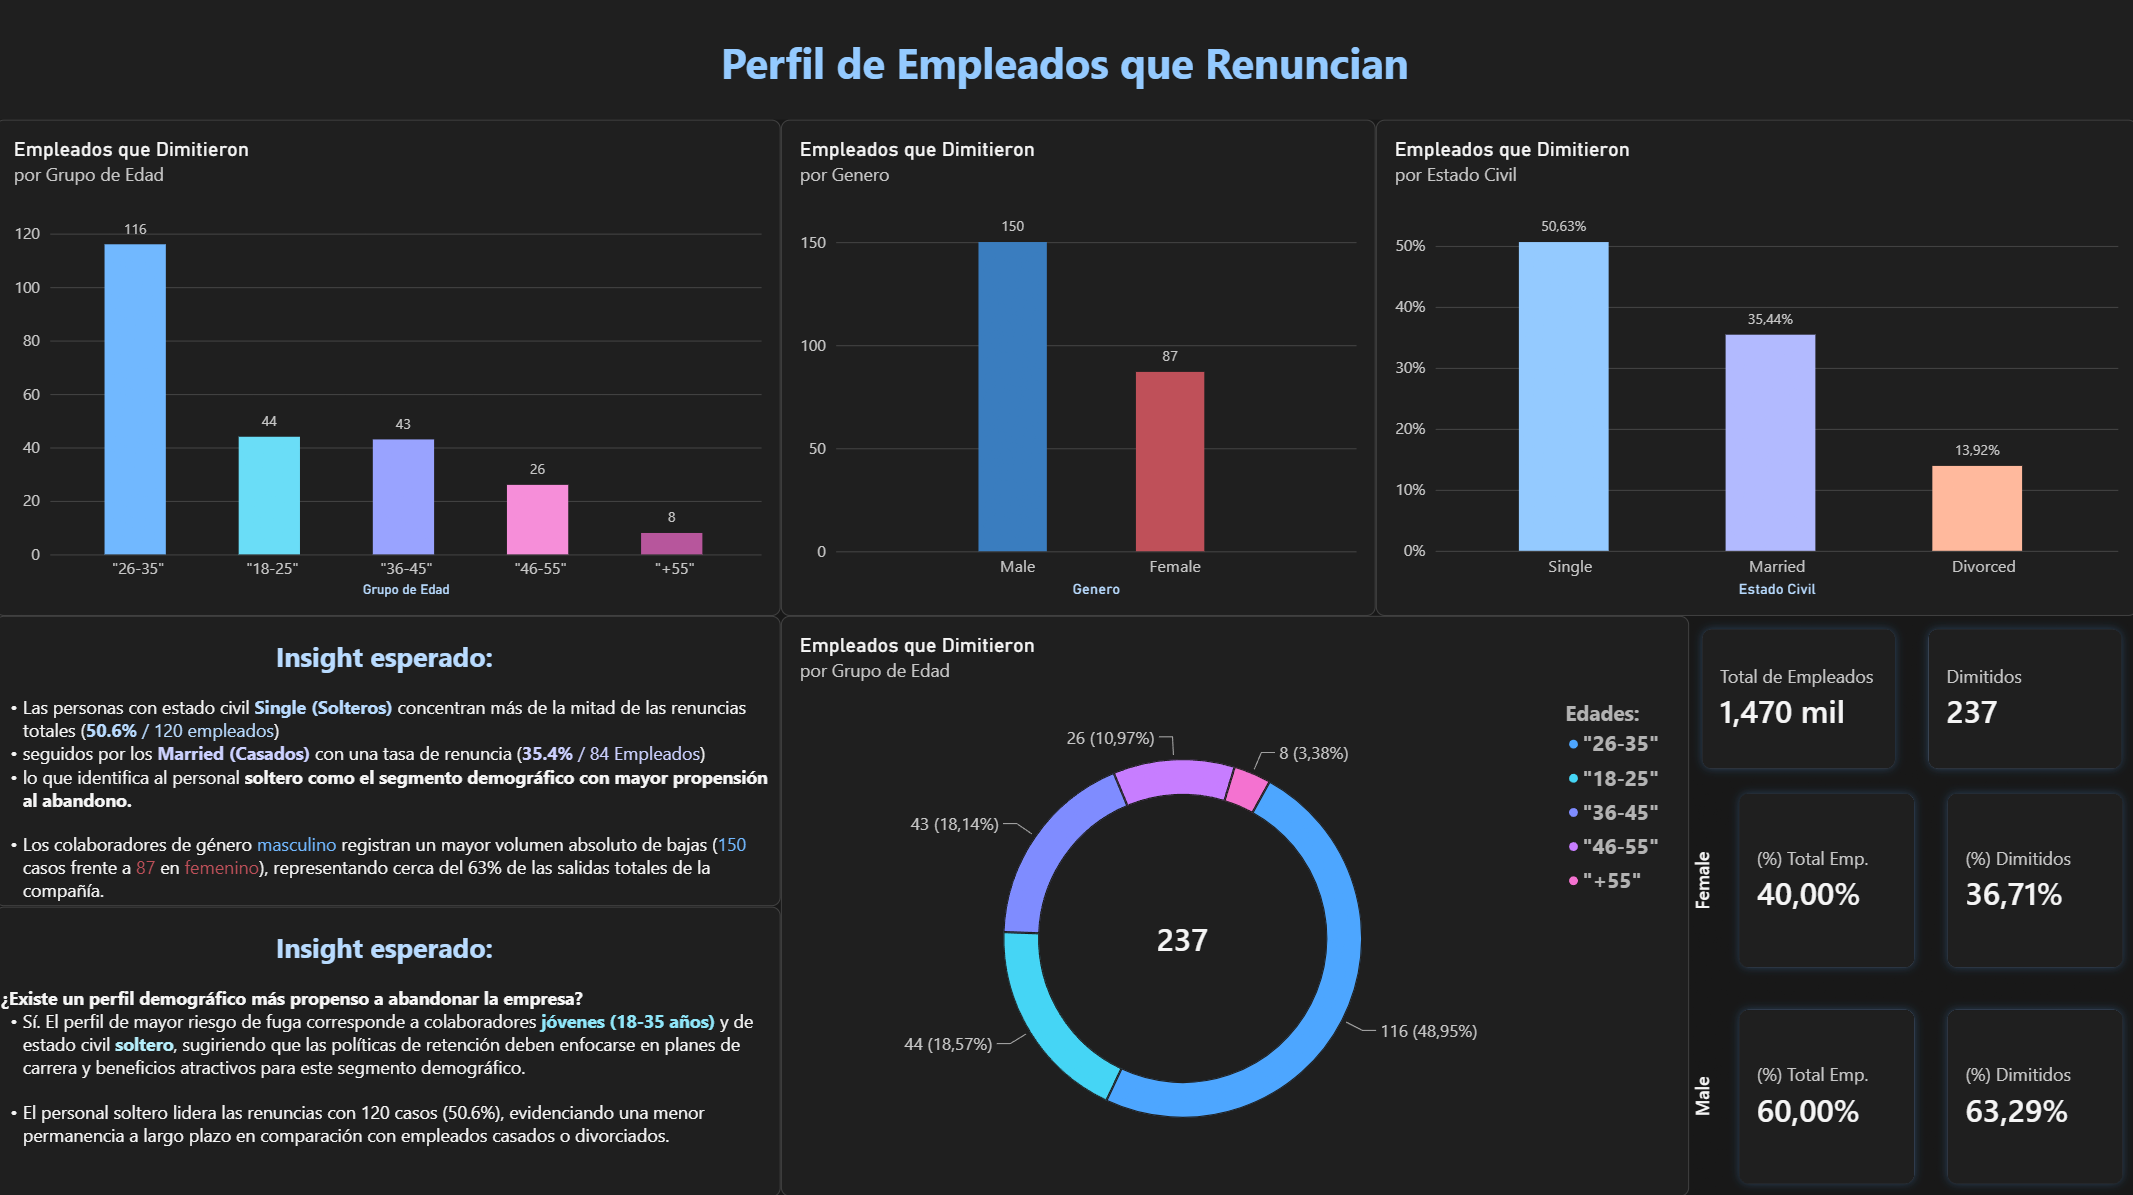

The page's visual inventory and layout, read from the dashboard file:
{"tool":"powerbi","page":{"name":"Perfil del Empleado","canvas":[1920,1080],"ordinal":2},"visuals":[{"type":"textbox","box":[0,0,1918.6,114.8],"z":0},{"type":"clusteredColumnChart","fields":{"Category":["Employees.AgeGroup"],"Y":["Employees.Employees Left"]},"box":[0,114.7,704.5,445],"z":1000},{"type":"textbox","box":[0,559.5,704.8,260.2],"z":2000},{"type":"clusteredColumnChart","fields":{"Category":["Employees.Gender"],"Y":["Employees.Employees Left"]},"box":[704.5,114.7,532.9,445],"z":3000},{"type":"textbox","box":[0,819.7,704.8,260.2],"z":4000},{"type":"clusteredColumnChart","fields":{"Category":["Employees.MaritalStatus"],"Y":["Employees.Employees Left"]},"box":[1238,114.8,682.7,444.6],"z":5000},{"type":"donutChart","fields":{"Category":["Employees.AgeGroup"],"Y":["Employees.Employees Left"]},"box":[704.8,559.5,814.4,520.5],"z":6000},{"type":"cardVisual","fields":{"Data":["Employees.Total Employees","Employees.Employees Left"]},"box":[1519.5,559.9,399.8,147.6],"z":7000},{"type":"cardVisual","fields":{"Data":["Divide(Employees.Total Employees, ScopedEval(Employees.Total Employees, []))","Divide(Employees.Employees Left, ScopedEval(Employees.Employees Left, []))"],"Rows":["Employees.Gender"]},"box":[1519.5,707.5,399.8,372.5],"z":8000}]}

Visuals, with their boxes in screenshot pixels (x1, y1, x2, y2), scaled from the page's 1920x1080 canvas onto the 2133x1195 screenshot:
textbox: x1=0 y1=0 x2=2131 y2=127
clusteredColumnChart - Employees.AgeGroup x Employees.Employees Left: x1=0 y1=127 x2=783 y2=619
textbox: x1=0 y1=619 x2=783 y2=907
clusteredColumnChart - Employees.Gender x Employees.Employees Left: x1=783 y1=127 x2=1375 y2=619
textbox: x1=0 y1=907 x2=783 y2=1194
clusteredColumnChart - Employees.MaritalStatus x Employees.Employees Left: x1=1375 y1=127 x2=2132 y2=619
donutChart - Employees.AgeGroup x Employees.Employees Left: x1=783 y1=619 x2=1688 y2=1194
cardVisual - Employees.Total Employees x Employees.Employees Left: x1=1688 y1=620 x2=2132 y2=783
cardVisual - Divide(Employees.Total Employees, ScopedEval(Employees.Total Employees, [])) x Divide(Employees.Employees Left, ScopedEval(Employees.Employees Left, [])): x1=1688 y1=783 x2=2132 y2=1194
